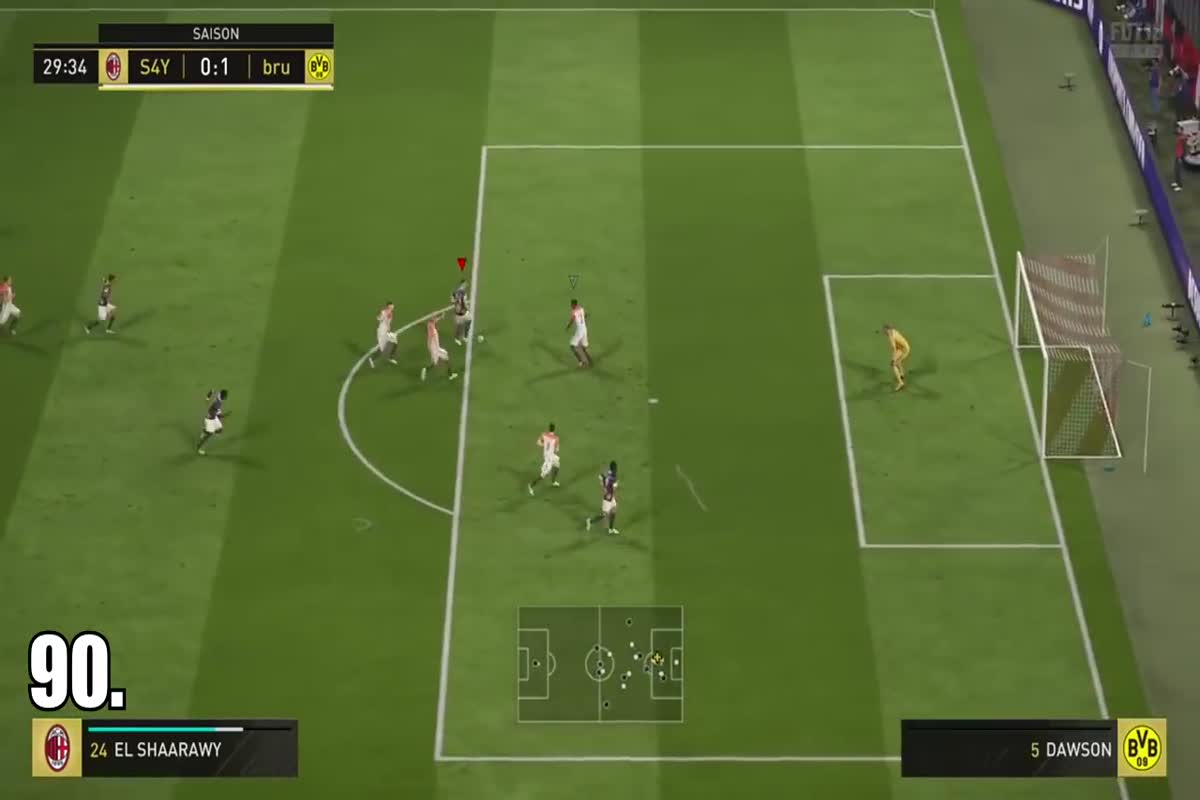ball: (471, 328, 491, 347)
